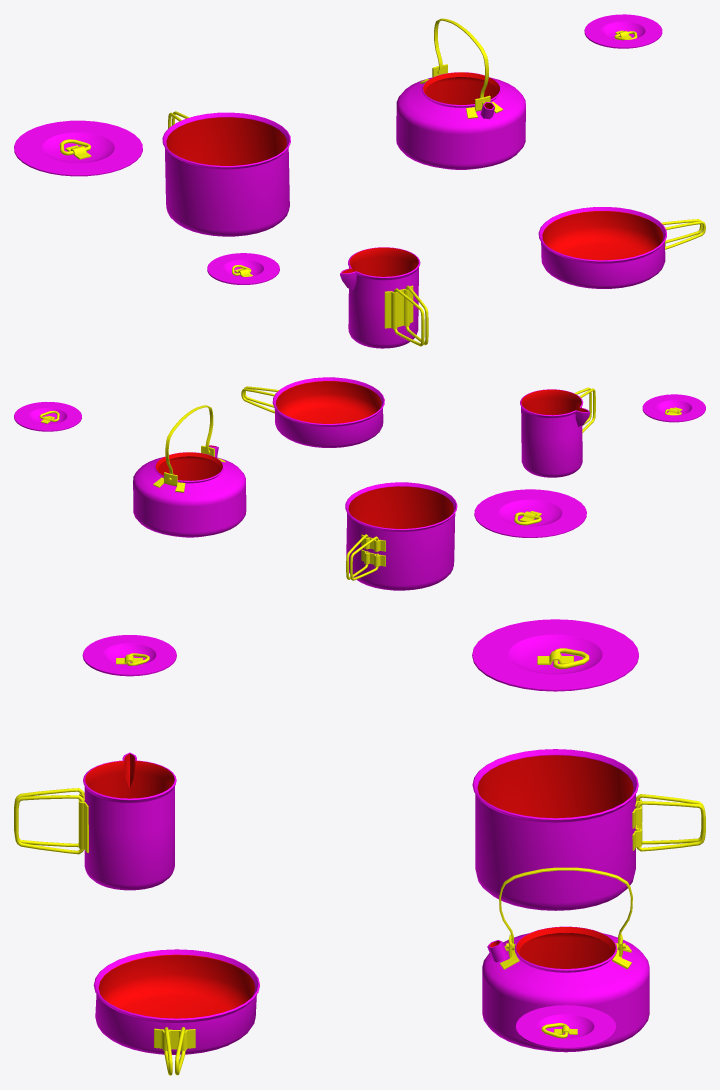
The model's file is cooking pots.fbx.
3 views of the same model, one above another, from view 1: azimuth 30°, elevation 25°; view 2: azimuth 150°, elevation 25°; view 3: azimuth 270°, elevation 25° (orthographic). The views are drawn at different scales.
Visible parts, largest first — view 1: pot.001, Kettle, pan, Boiler; view 2: pot.001, Kettle, pan, Boiler; view 3: pot.001, Kettle, Boiler, pan.
Boxes of the visible parts, box(x1,y1,x2,y2) form: pot.001: box(14, 111, 290, 236); Kettle: box(396, 14, 662, 169); pan: box(538, 207, 705, 288); Boiler: box(207, 247, 428, 348); pot.001: box(345, 482, 586, 590); Kettle: box(14, 402, 246, 537); pan: box(241, 377, 384, 447); Boiler: box(520, 387, 705, 477); pot.001: box(472, 619, 705, 910); Kettle: box(482, 867, 649, 1052); Boiler: box(14, 635, 176, 890); pan: box(93, 949, 259, 1075).
Bounding box in the file's own units: 206 × 38.49 × 149.
